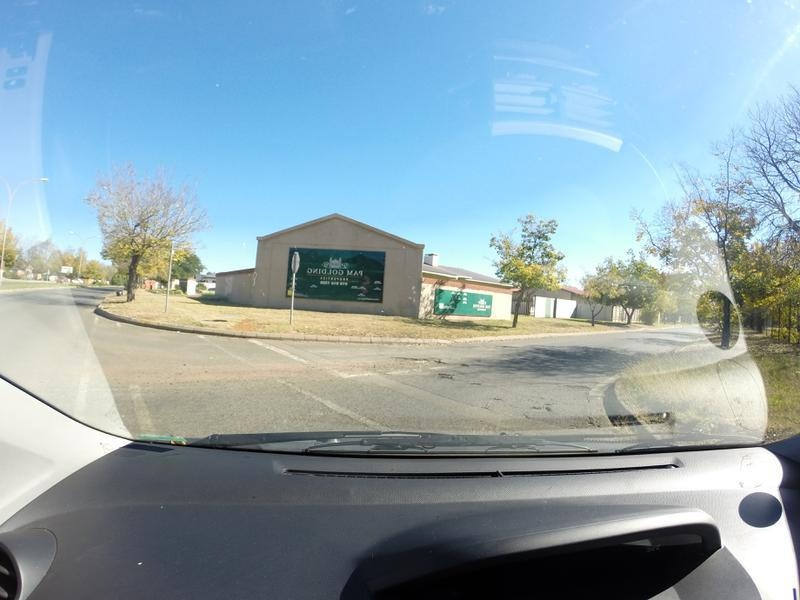pothole: (330, 350, 467, 382)
